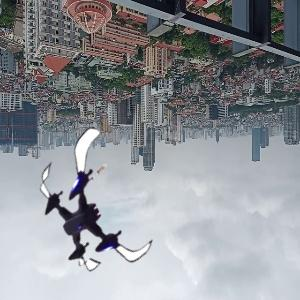drone: (26, 146, 163, 283)
